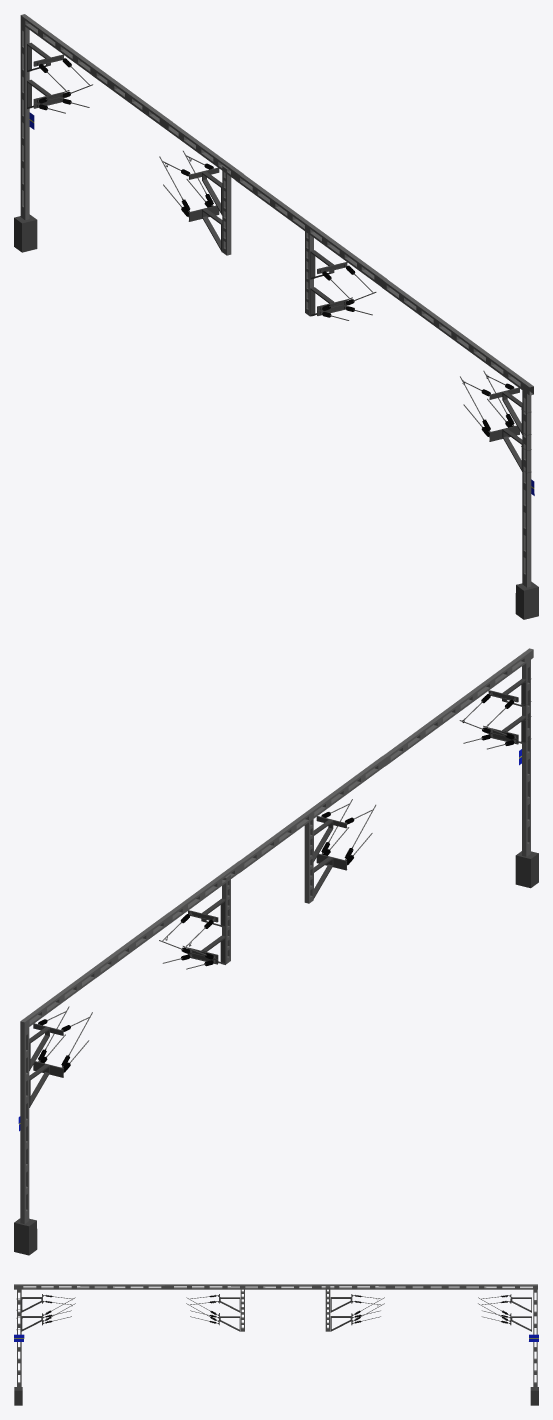
File: new2-electric-transformed.glb
3 renders of one model, top to bottom at view 1: azimuth 30°, elevation 25°; view 2: azimuth 150°, elevation 25°; view 3: azimuth 270°, elevation 25°, orthographic. The views are drawn at different scales.
Parts seen in each view (by area): view 1: electric pole 1.050, electric pole 1.052, electric pole 1.002, electric pole 1.057, electric pole 1.055, electric pole 1.054, electric pole 1.058, electric pole 1.056, electric pole 1.051, electric pole 1.017, electric pole 1.042; view 2: electric pole 1.057, electric pole 1.050, electric pole 1.002, electric pole 1.055, electric pole 1.052, electric pole 1.054, electric pole 1.053, electric pole 1.051, electric pole 1.056, electric pole 1.025, electric pole 1.039; view 3: electric pole 1.050, electric pole 1.002, electric pole 1.055, electric pole 1.054, electric pole 1.057, electric pole 1.052, electric pole 1.017, electric pole 1.039, electric pole 1.058, electric pole 1.042, electric pole 1.025, electric pole 1.053.
Part boxes in pixels (box(x1,y1,x2,y2)): electric pole 1.050: box(381, 279, 533, 395); electric pole 1.052: box(522, 390, 531, 587); electric pole 1.002: box(235, 174, 387, 286); electric pole 1.057: box(20, 23, 29, 220); electric pole 1.055: box(20, 14, 172, 130); electric pole 1.054: box(92, 68, 243, 183); electric pole 1.058: box(222, 165, 231, 255); electric pole 1.056: box(14, 214, 37, 252); electric pole 1.051: box(515, 581, 538, 619); electric pole 1.017: box(202, 171, 222, 252); electric pole 1.042: box(502, 391, 522, 471); electric pole 1.057: box(20, 1027, 29, 1224); electric pole 1.050: box(383, 648, 533, 766); electric pole 1.002: box(239, 755, 387, 872); electric pole 1.055: box(20, 912, 172, 1030); electric pole 1.052: box(522, 660, 530, 856); electric pole 1.054: box(96, 860, 243, 977); electric pole 1.053: box(304, 814, 313, 903); electric pole 1.051: box(515, 851, 538, 888); electric pole 1.056: box(14, 1218, 37, 1255); electric pole 1.025: box(29, 1027, 49, 1107); electric pole 1.039: box(313, 819, 333, 898); electric pole 1.050: box(14, 1284, 166, 1289); electric pole 1.002: box(164, 1284, 316, 1289); electric pole 1.055: box(385, 1284, 537, 1289); electric pole 1.054: box(312, 1284, 464, 1289); electric pole 1.057: box(533, 1289, 537, 1389); electric pole 1.052: box(17, 1289, 21, 1389); electric pole 1.017: box(330, 1297, 351, 1331); electric pole 1.039: box(219, 1297, 240, 1331); electric pole 1.058: box(325, 1286, 330, 1331); electric pole 1.042: box(21, 1297, 41, 1331); electric pole 1.025: box(511, 1297, 531, 1331); electric pole 1.053: box(240, 1287, 244, 1331).
Bounding box in the file's own units: 1.39 × 10.15 × 40.56.
Materials: 4 (4 with a texture image).
